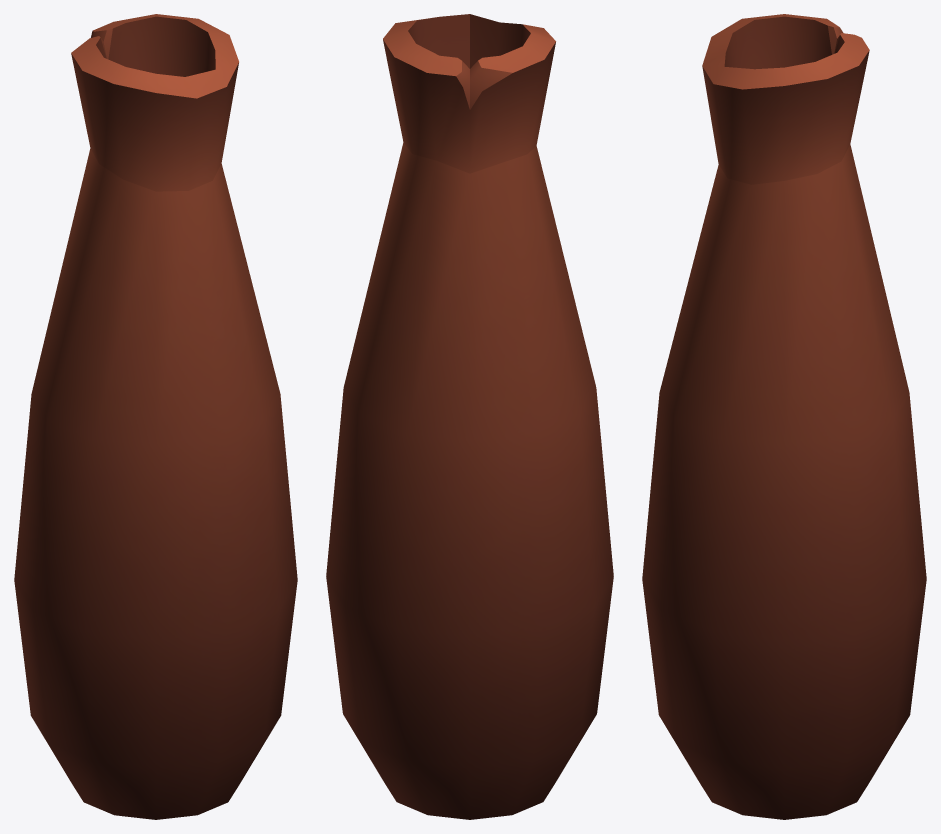
File: Clay_Vase_1A.fbx
3 views of the same model, side by side, from view 1: azimuth 30°, elevation 25°; view 2: azimuth 150°, elevation 25°; view 3: azimuth 270°, elevation 25° (orthographic).
Visible parts, largest first — view 1: Clay_Vase_1A; view 2: Clay_Vase_1A; view 3: Clay_Vase_1A.
Part boxes in pixels (x1,y1,x2,y2): Clay_Vase_1A: (14, 14, 297, 819); Clay_Vase_1A: (326, 14, 613, 819); Clay_Vase_1A: (642, 14, 926, 819).
Size of the model in its own units: 16.53 by 47.76 by 16.53.
